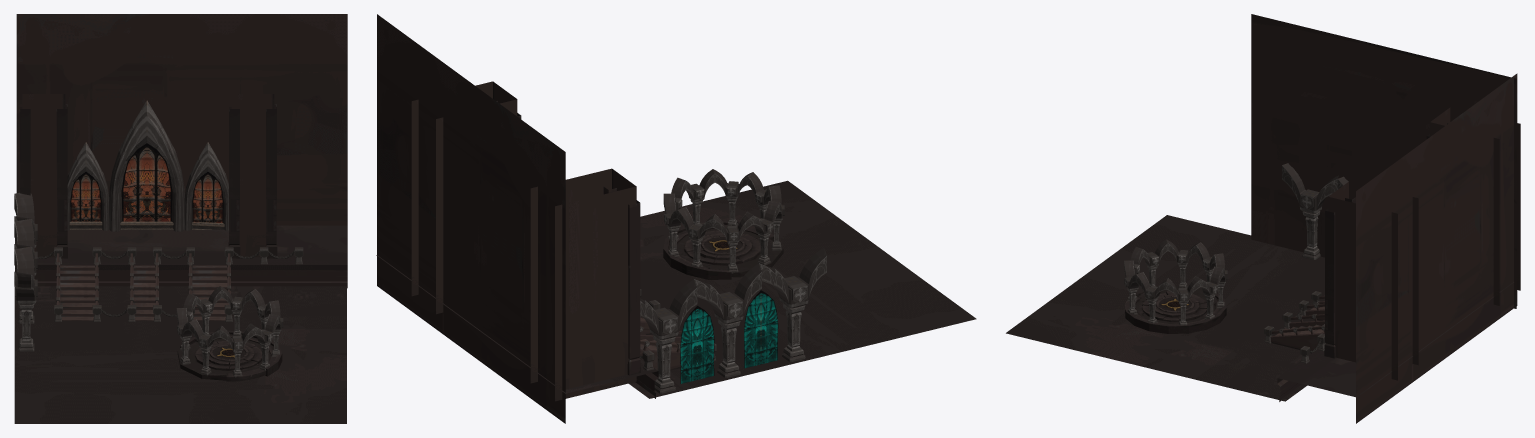
File: Scene_xuanrenjiemian.FBX
3 views of the same model, side by side, from view 1: azimuth 30°, elevation 25°; view 2: azimuth 150°, elevation 25°; view 3: azimuth 270°, elevation 25° (orthographic). The views are drawn at different scales.
Visible parts, largest first — view 1: scene_xuanrenjiemian_a, scene_xuanrenjiemian_c, scene_xuanrenjiemian_b; view 2: scene_xuanrenjiemian_a, scene_xuanrenjiemian_c, scene_xuanrenjiemian_b; view 3: scene_xuanrenjiemian_a, scene_xuanrenjiemian_c, scene_xuanrenjiemian_b.
Boxes of the visible parts, x1,y1,x2,y2 form: scene_xuanrenjiemian_a: (14,14,347,423); scene_xuanrenjiemian_c: (14,100,303,376); scene_xuanrenjiemian_b: (177,330,282,381); scene_xuanrenjiemian_a: (376,14,976,423); scene_xuanrenjiemian_c: (639,169,826,393); scene_xuanrenjiemian_b: (663,220,783,279); scene_xuanrenjiemian_a: (1006,14,1520,423); scene_xuanrenjiemian_c: (1124,163,1348,363); scene_xuanrenjiemian_b: (1125,286,1226,333).
Size of the model in its own units: 2993 by 1588 by 3186.
